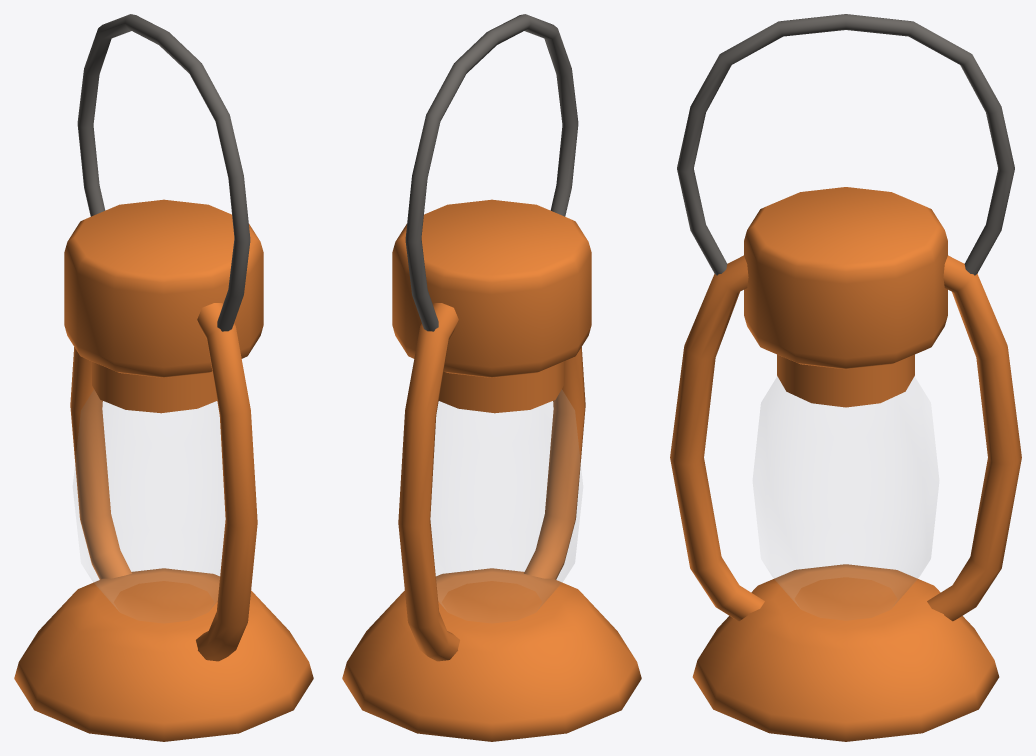
File: lamp.dae
3 renders of one model, left to right at view 1: azimuth 30°, elevation 25°; view 2: azimuth 150°, elevation 25°; view 3: azimuth 270°, elevation 25°, orthographic. The views are drawn at different scales.
Parts seen in each view (by area): view 1: Base, Cylinder.001, Sphere, Torus, Torus.001, Cylinder; view 2: Base, Cylinder.001, Sphere, Torus, Torus.001, Cylinder; view 3: Base, Sphere, Cylinder.001, Torus, Torus.001, Cylinder.
Boxes of the visible parts, box(x1,y1,x2,y2) form: Base: box(14, 568, 313, 741); Cylinder.001: box(64, 199, 263, 377); Sphere: box(73, 390, 224, 608); Torus: box(70, 303, 257, 661); Torus.001: box(77, 14, 250, 331); Cylinder: box(92, 361, 217, 413); Base: box(342, 568, 641, 741); Cylinder.001: box(392, 199, 591, 377); Sphere: box(431, 390, 582, 608); Torus: box(398, 303, 585, 661); Torus.001: box(405, 14, 578, 331); Cylinder: box(438, 361, 563, 413); Base: box(692, 564, 999, 741); Sphere: box(753, 377, 938, 605); Cylinder.001: box(744, 187, 947, 369); Torus: box(670, 255, 1021, 621); Torus.001: box(677, 14, 1014, 275); Cylinder: box(777, 354, 914, 407).
Bounding box in the file's own units: 0.1805 × 0.207 × 0.4348.
